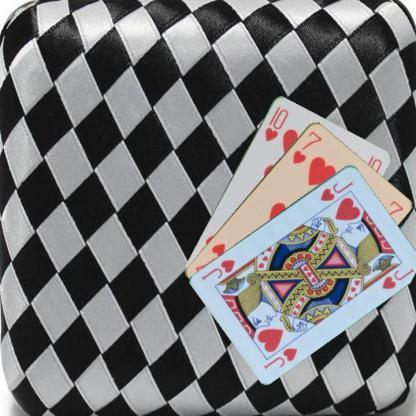10h: (262, 103, 290, 143)
7h: (290, 128, 323, 165)
Jh: (261, 344, 299, 369), (318, 178, 355, 202)
